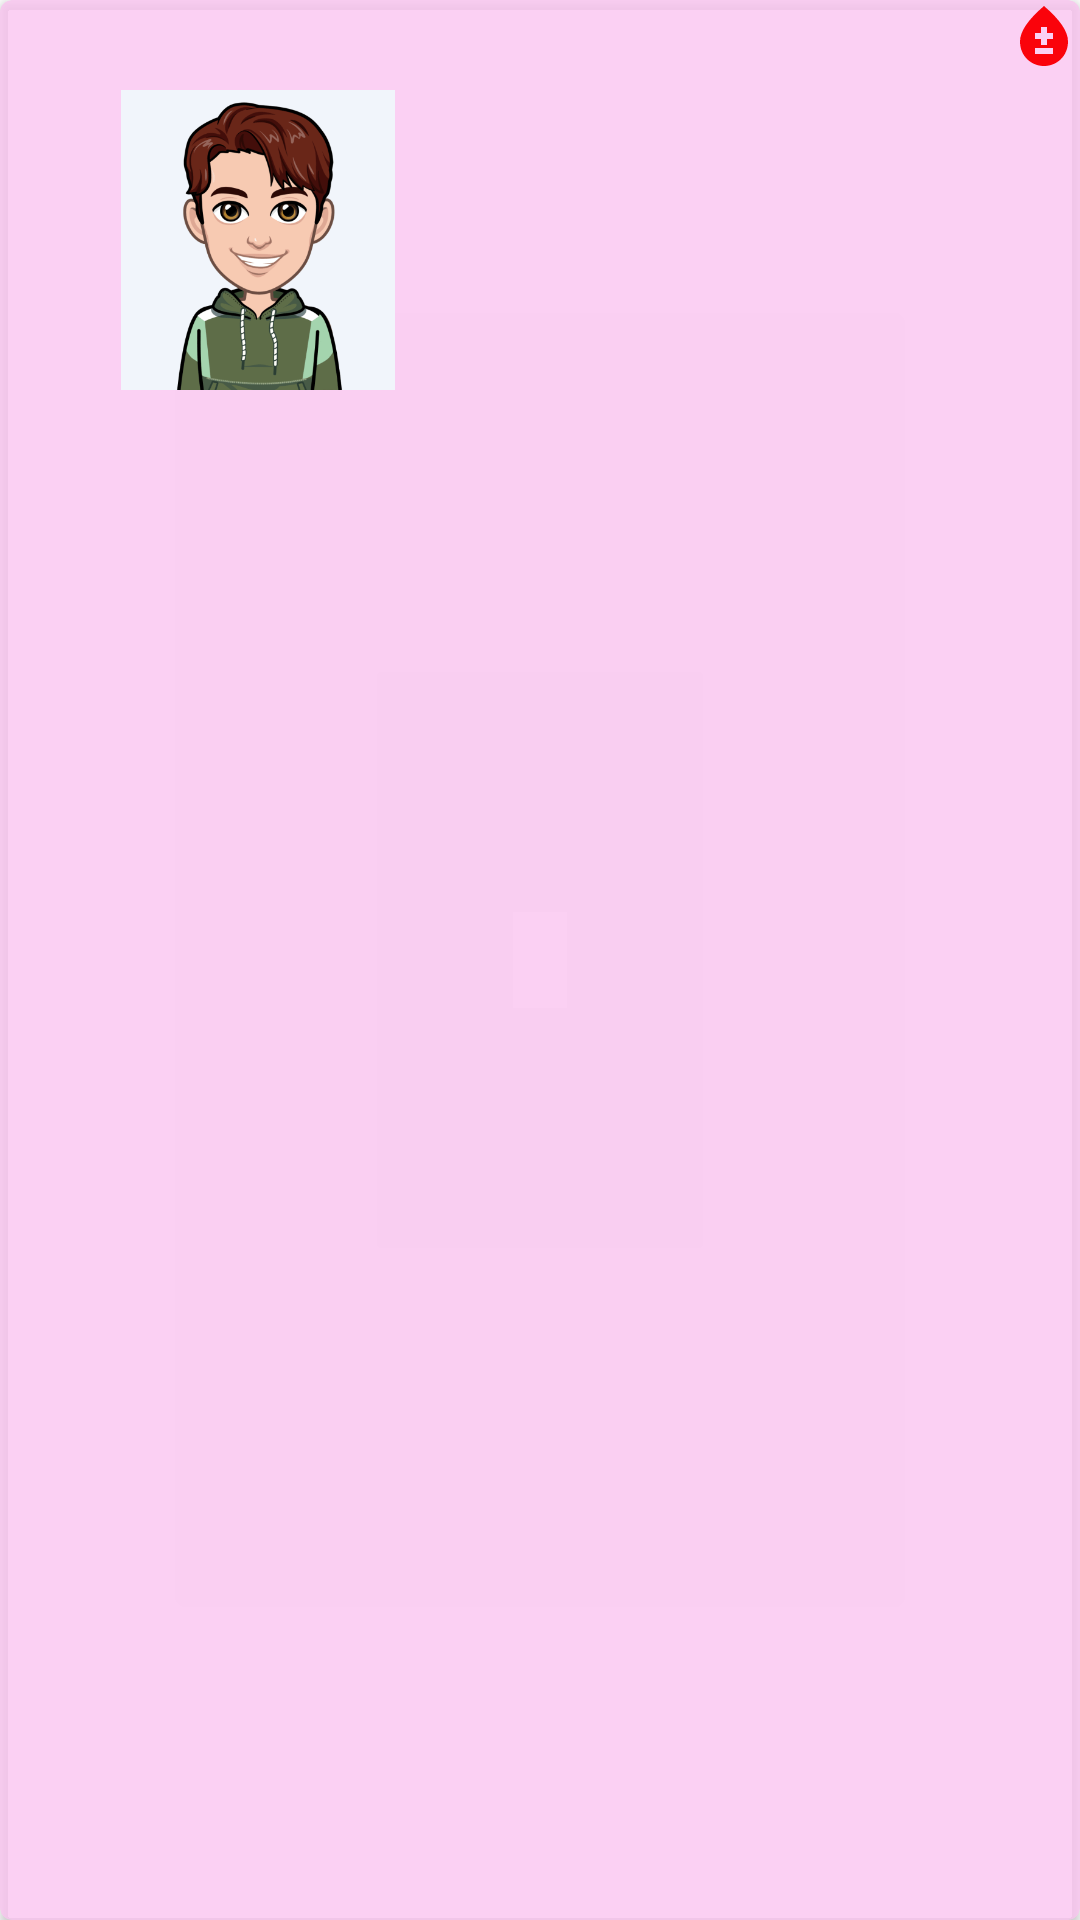

Point at icon controls on the screen. Image size 1080w x 1920h, points as point (x, y).
blood group: point (1050, 33)
profile: point (258, 240)
